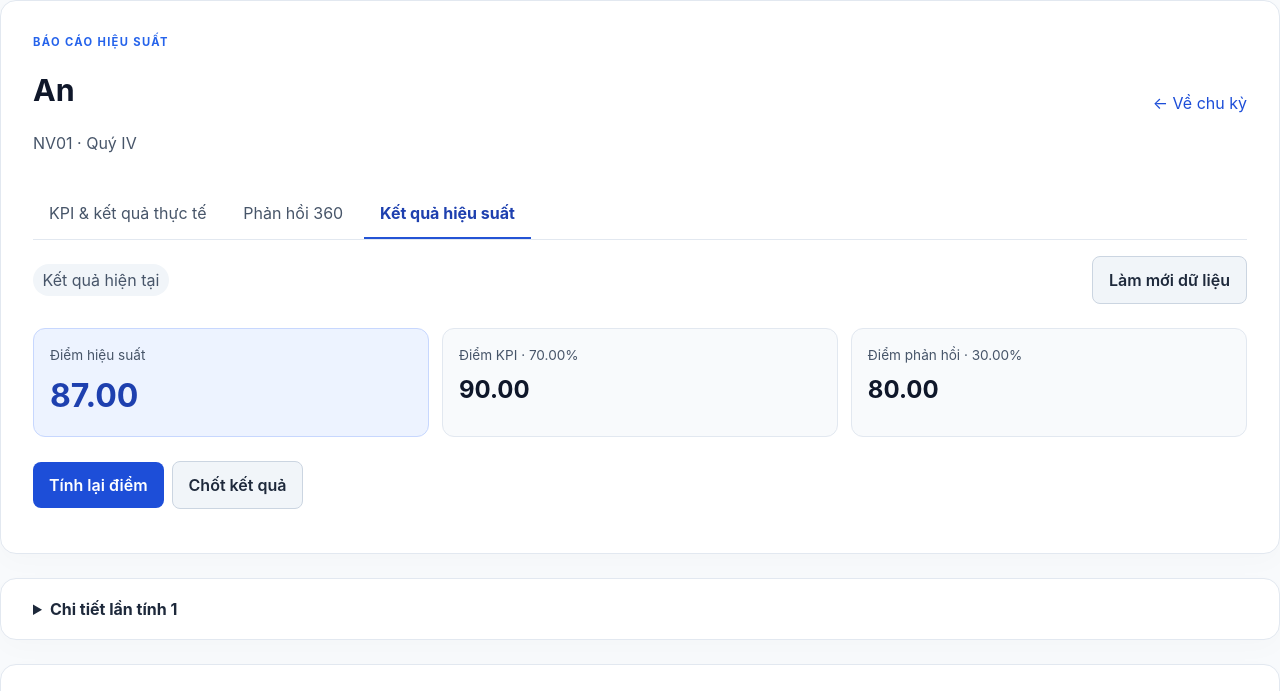
Scenario: stops repeat submission after conflict until explicit reload
This screenshot has width=1280, height=691.
Click the button "Tính lại điểm": (98, 485) [33,462,164,508]
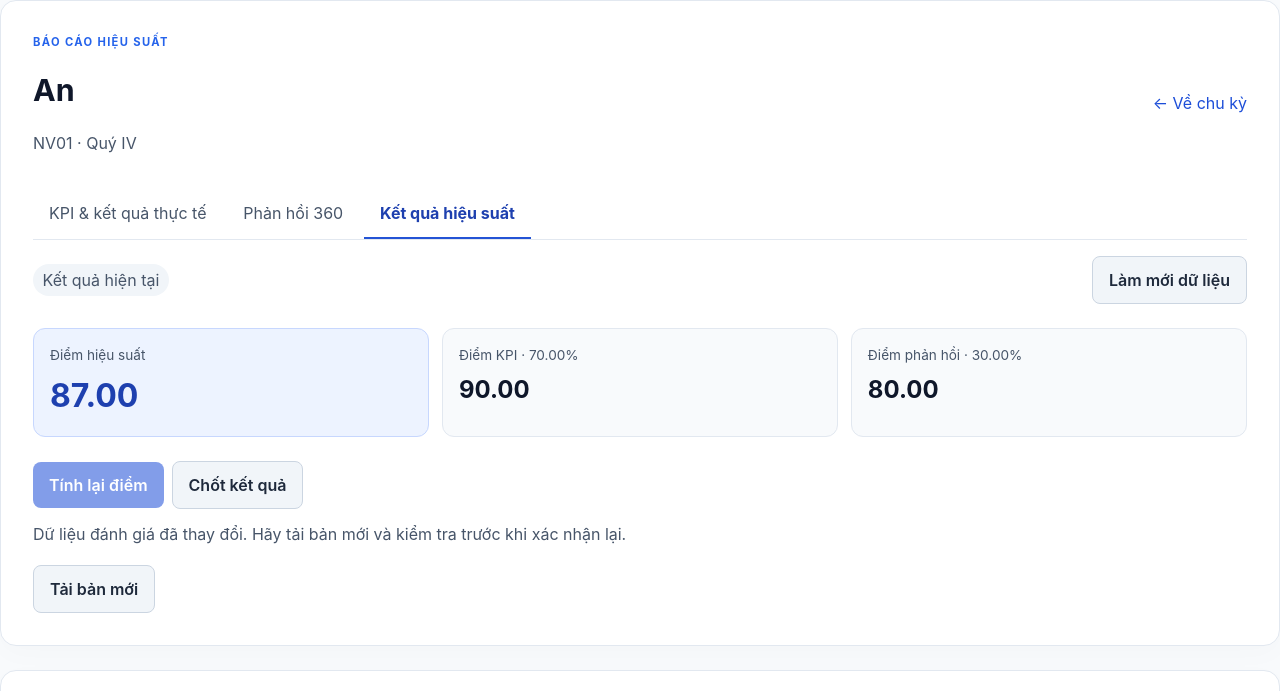
Expected: the message is shown, [33,524,626,613]
Expected: the button "Tính lại điểm" is disabled, [33,462,164,508]
Click the button "Tải bản mới": (94, 589) [33,564,155,613]
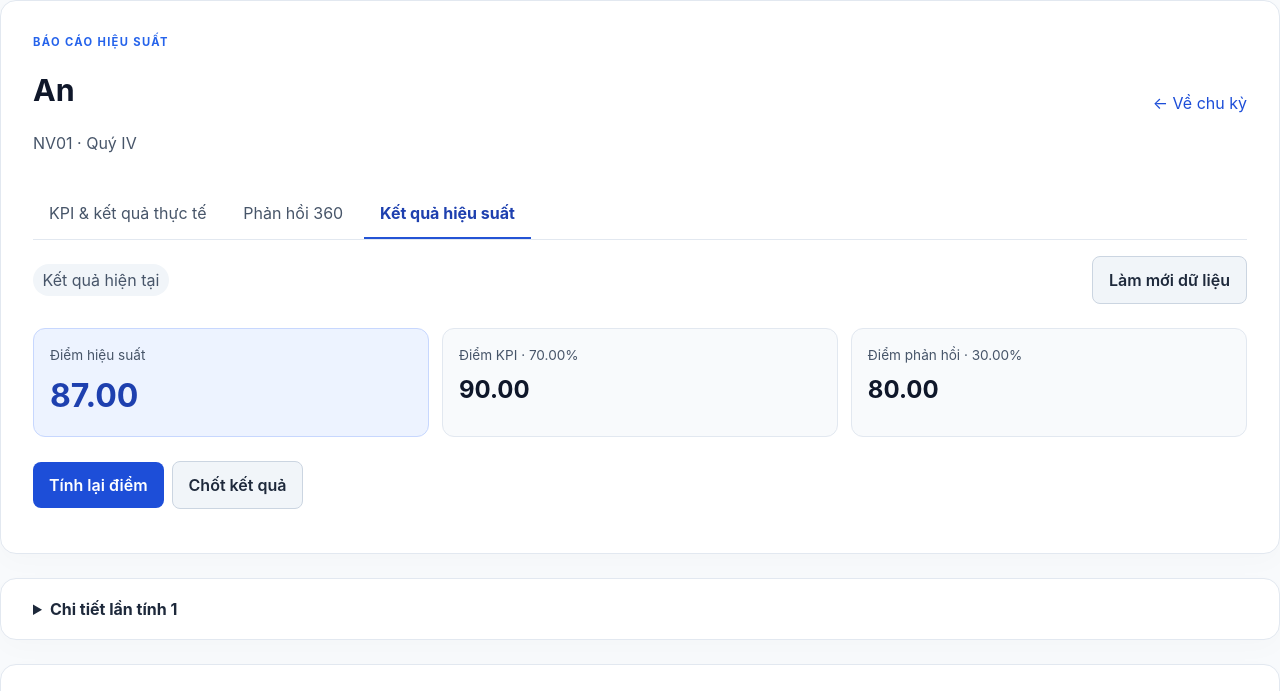
Expected: the button "Tính lại điểm" is enabled, [33,462,164,508]
